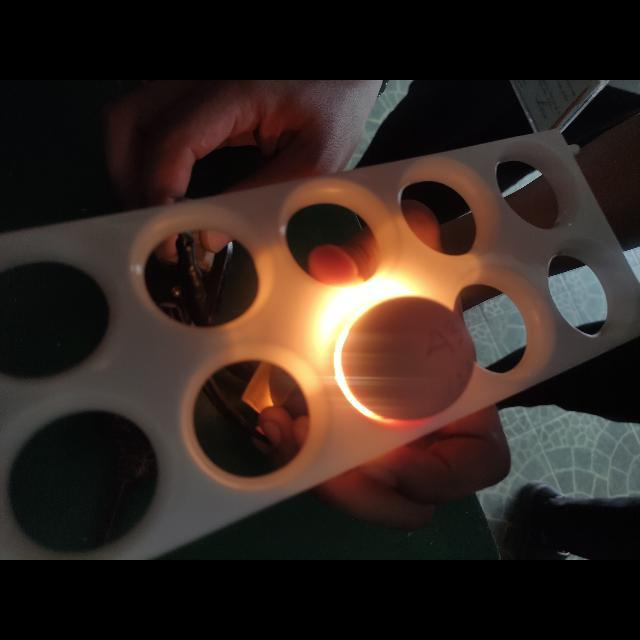Fertile: (340, 288, 480, 429)
